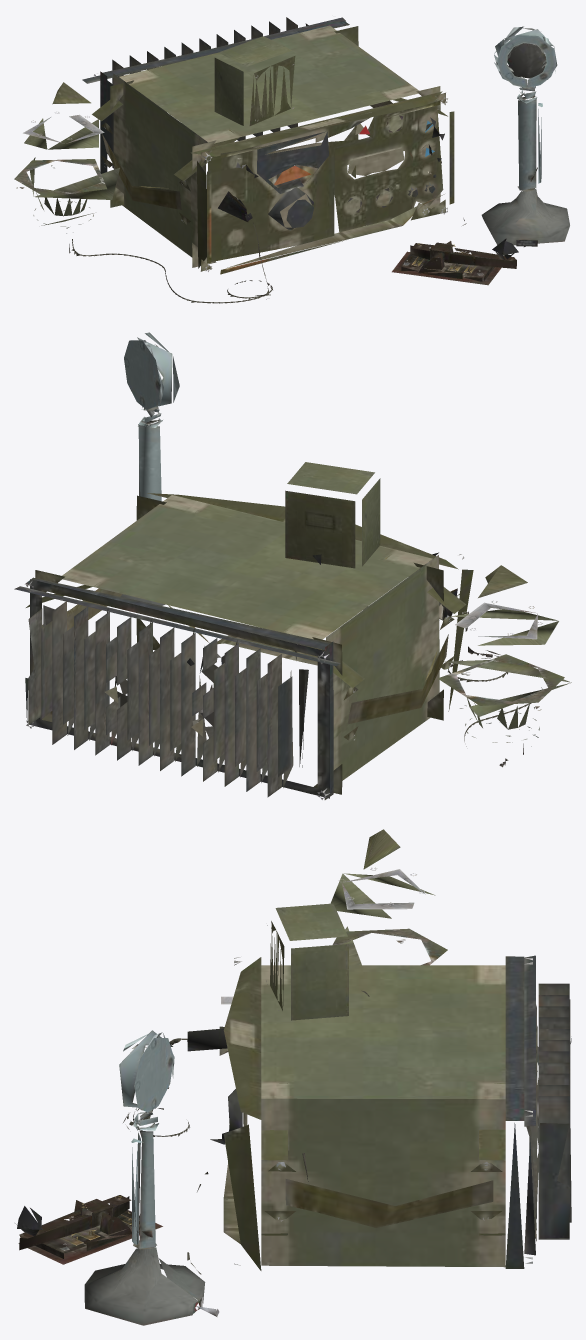
Rendered from radio_set.glb.
3 renders of one model, top to bottom at view 1: azimuth 30°, elevation 25°; view 2: azimuth 150°, elevation 25°; view 3: azimuth 270°, elevation 25°, orthographic. The views are drawn at different scales.
Visible parts, largest first — view 1: radio_set; view 2: radio_set; view 3: radio_set.
Boxes of the visible parts, x1,y1,x2,y2 form: radio_set: (14, 17, 569, 303); radio_set: (14, 332, 571, 799); radio_set: (15, 829, 571, 1325).
Bounding box in the file's own units: 0.5214 × 0.2211 × 0.4145.
Materials: 2 (2 with a texture image).
